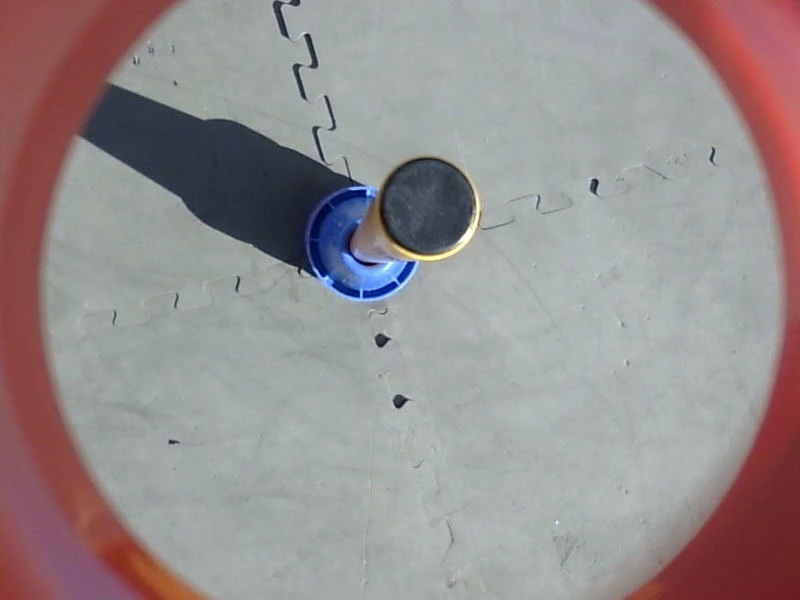tip: (371, 153, 486, 266)
